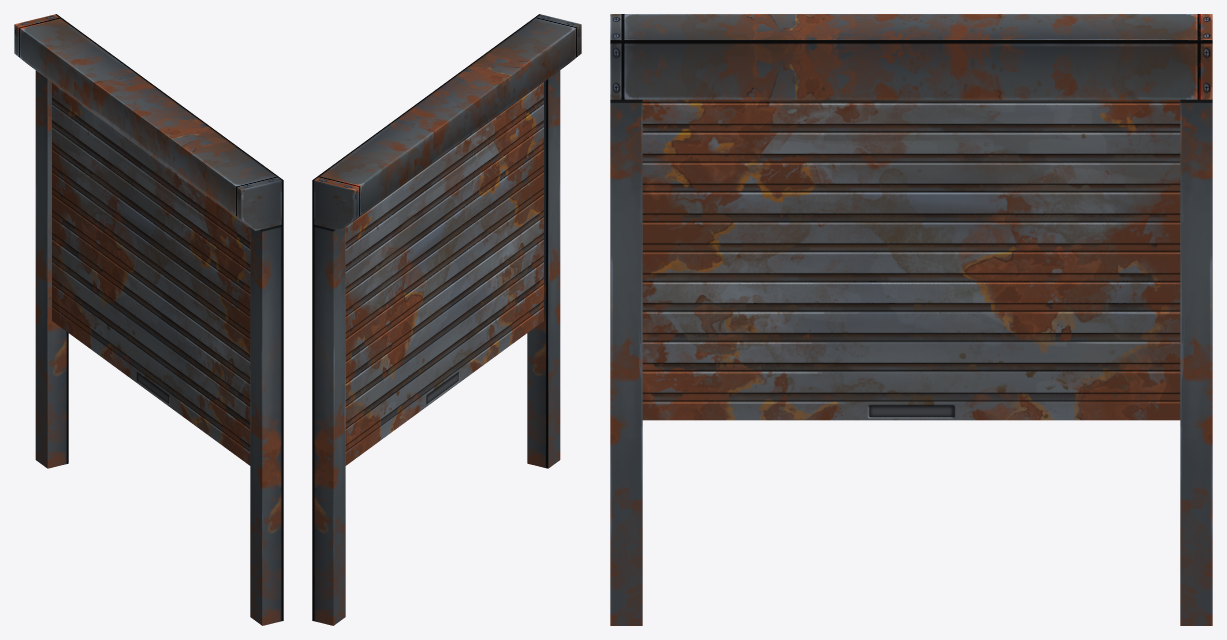
File: rollerShutter03_3m.fbx
The picture shows the model from 3 angles, left to right: view 1: azimuth 30°, elevation 25°; view 2: azimuth 150°, elevation 25°; view 3: azimuth 270°, elevation 25°; orthographic projection. The views are drawn at different scales.
Visible parts, largest first — view 1: rollerShutter03_3m; view 2: rollerShutter03_3m; view 3: rollerShutter03_3m.
Boxes of the visible parts, x1=… form: rollerShutter03_3m: x1=14, y1=14, x2=283, y2=625; rollerShutter03_3m: x1=312, y1=14, x2=581, y2=625; rollerShutter03_3m: x1=610, y1=14, x2=1212, y2=625.
Bounding box in the file's own units: 30 × 300 × 280.
